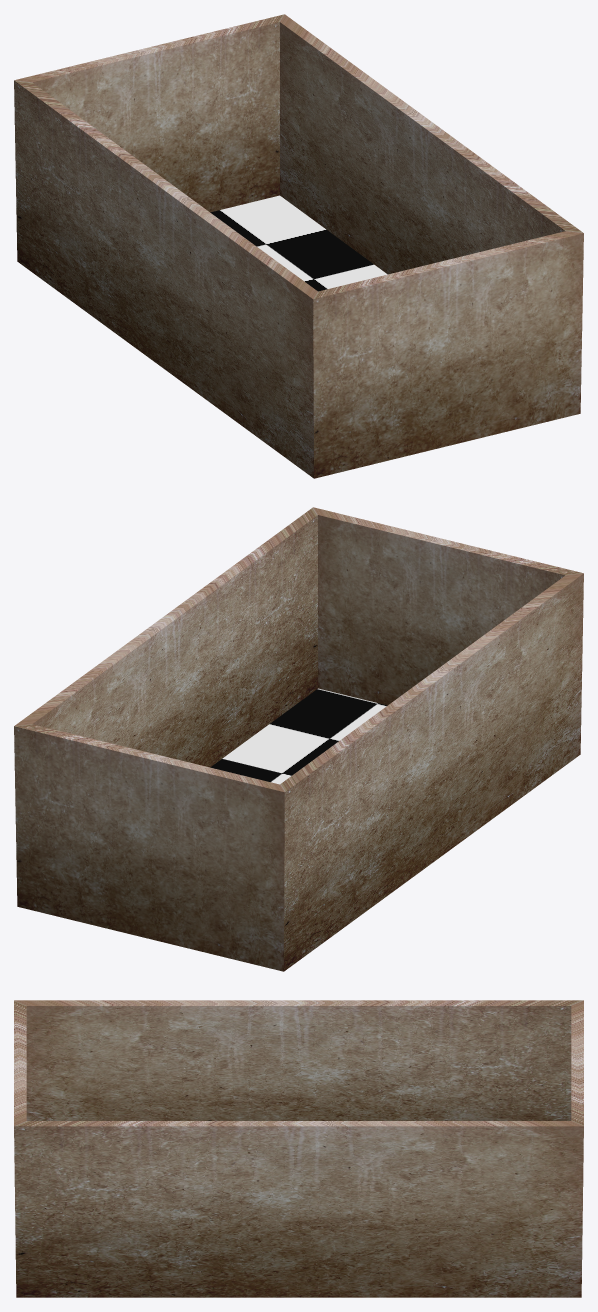
The model's file is sala_musica.FBX.
3 views of the same model, one above another, from view 1: azimuth 30°, elevation 25°; view 2: azimuth 150°, elevation 25°; view 3: azimuth 270°, elevation 25° (orthographic). The views are drawn at different scales.
Parts seen in each view (by area): view 1: sala_musica_270cm; view 2: sala_musica_270cm; view 3: sala_musica_270cm.
Boxes of the visible parts, x1,y1,x2,y2 form: sala_musica_270cm: (14, 14, 583, 478); sala_musica_270cm: (14, 507, 583, 971); sala_musica_270cm: (14, 1000, 583, 1297).
Bounding box in the file's own units: 174 × 111 × 332.
